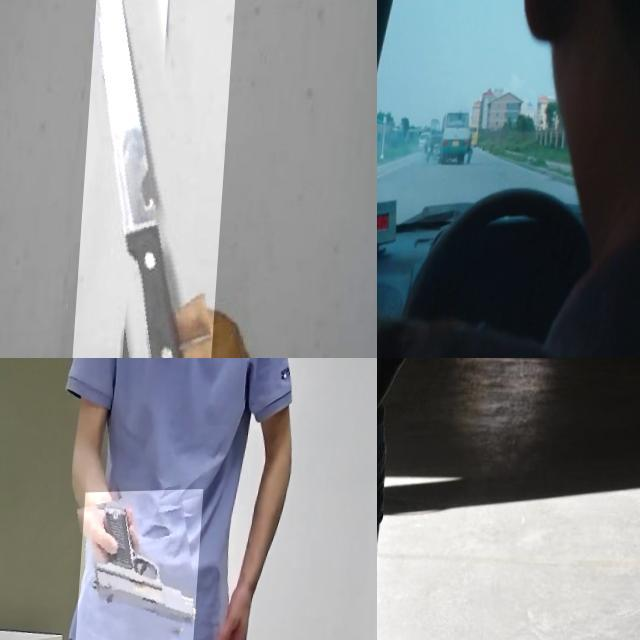-: (71, 0, 240, 358), (377, 493, 403, 615)
gun-knife-thesis - v11 Yolov5 augmented: (80, 490, 206, 640), (377, 123, 414, 279)
